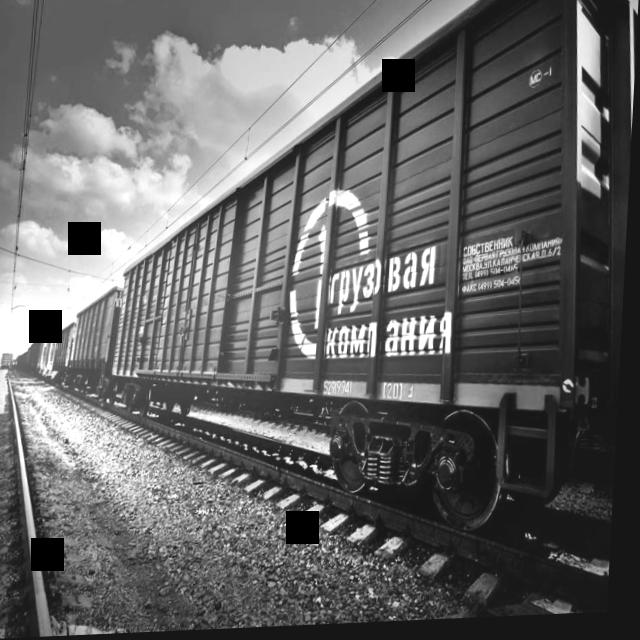boxcar: (109, 0, 640, 560)
